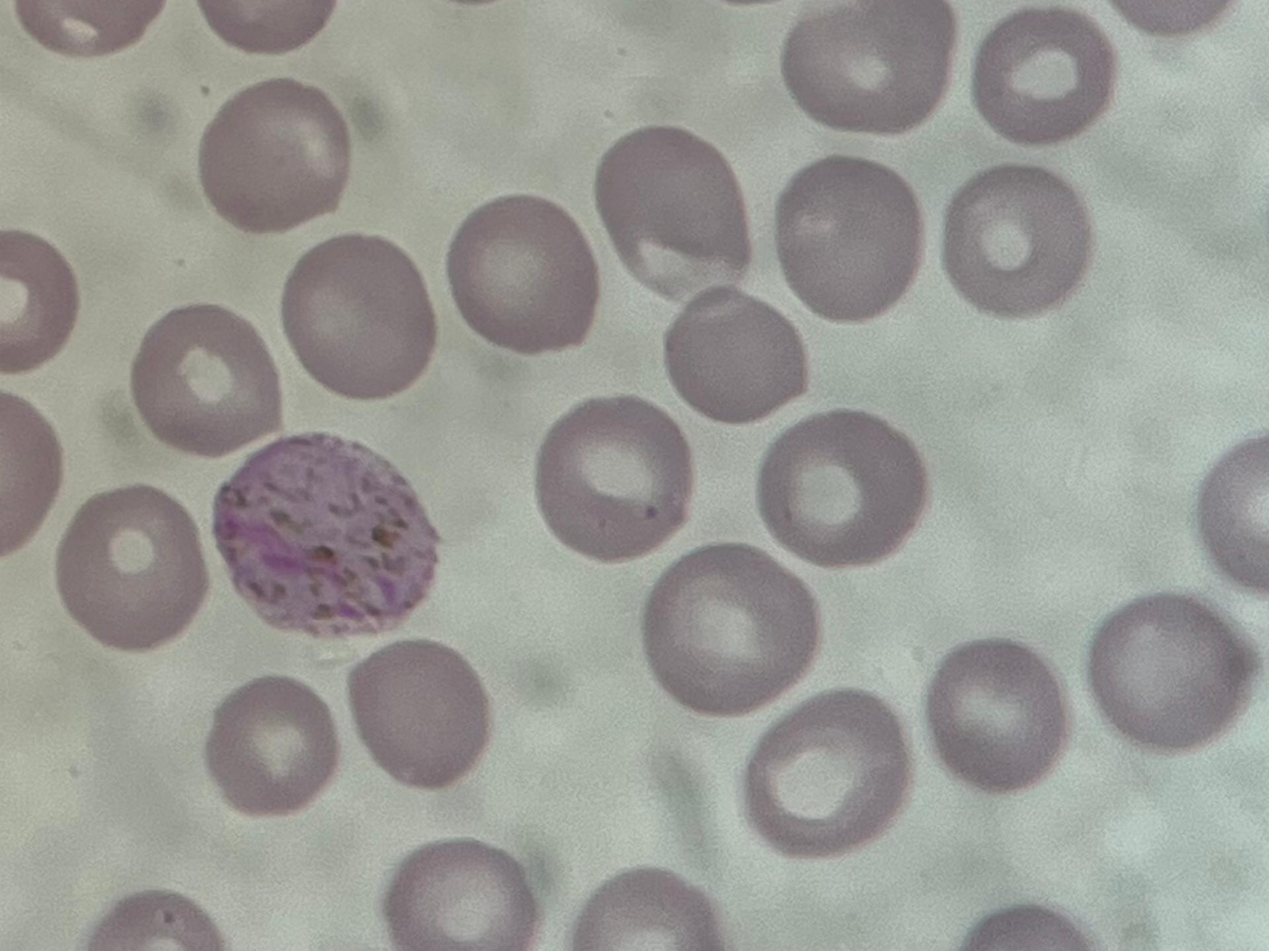Infected: (828, 314, 1060, 518)
Uninfected: (448, 233, 624, 406), (519, 638, 673, 825), (360, 93, 525, 261), (342, 379, 510, 542), (13, 197, 178, 358), (831, 551, 989, 716), (575, 389, 732, 554), (1061, 298, 1213, 463), (669, 595, 822, 756), (345, 631, 494, 794), (917, 719, 1068, 875), (314, 817, 488, 951), (988, 493, 1137, 646), (200, 159, 345, 311), (778, 161, 923, 312), (183, 635, 327, 787), (932, 129, 1060, 276), (155, 805, 293, 941), (464, 527, 605, 658), (732, 0, 883, 113)
